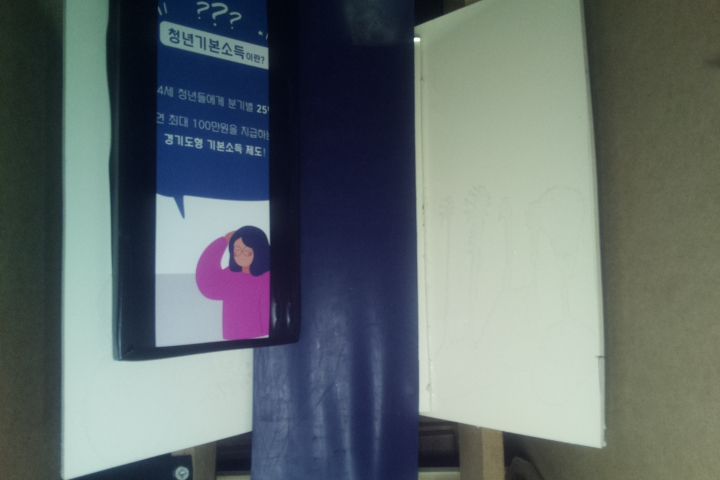book: (106, 1, 303, 362)
